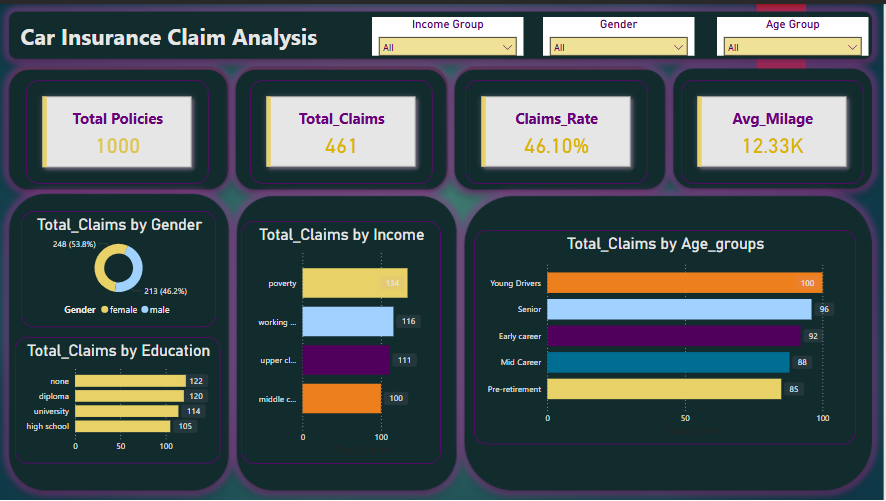

What the dashboard file says about the page in this screenshot:
{"tool":"powerbi","page":{"name":"Summary ","canvas":[1280,720],"ordinal":0},"visuals":[{"type":"cardVisual","fields":{"Data":["_Measure.Total_Policies"]},"box":[40.3,109.2,263.7,150],"z":0},{"type":"cardVisual","fields":{"Data":["_Measure.Total_Claims"]},"box":[364.5,109.2,263.7,149.5],"z":1000},{"type":"cardVisual","fields":{"Data":["_Measure.Claims_Rate"]},"box":[675.3,109.2,263.7,149.5],"z":2000},{"type":"cardVisual","fields":{"Data":["_Measure.Avg_Milage"]},"box":[987.7,109.2,263.7,149.5],"z":3000},{"type":"barChart","fields":{"Y":["_Measure.Total_Claims"],"Category":["Data - Car_Insurance_Claims.Education"]},"box":[25.2,482.1,297.3,183.1],"z":4000},{"type":"donutChart","fields":{"Y":["_Measure.Total_Claims"],"Category":["Data - Car_Insurance_Claims.Gender"]},"box":[33.6,299,282.2,168],"z":5000},{"type":"barChart","fields":{"Y":["_Measure.Total_Claims"],"Category":["Data - Car_Insurance_Claims.Age_groups"]},"box":[688.3,326.7,551.7,310],"z":6000},{"type":"barChart","fields":{"Y":["_Measure.Total_Claims"],"Category":["Data - Car_Insurance_Claims.Income"]},"box":[351.1,314.1,288.9,351.1],"z":7000},{"type":"textbox","box":[0,18.5,502.3,55.4],"z":8000},{"type":"slicer","title":"Age Group","fields":{"Values":["Data - Car_Insurance_Claims.Age_groups"]},"box":[1038.9,18.9,218.9,55.6],"z":9000},{"type":"slicer","title":"Gender","fields":{"Values":["Data - Car_Insurance_Claims.Gender"]},"box":[787.8,18.9,218.9,55.6],"z":10000},{"type":"slicer","title":"Income Group ","fields":{"Values":["Data - Car_Insurance_Claims.Income"]},"box":[540,18.9,218.9,55.6],"z":11000}]}

Visuals, with their boxes in screenshot pixels (x1, y1, x2, y2), scaled from the page's 1280x720 canvas onto the 886x501 screenshot:
cardVisual - _Measure.Total_Policies: Rect(28, 76, 210, 180)
cardVisual - _Measure.Total_Claims: Rect(252, 76, 435, 180)
cardVisual - _Measure.Claims_Rate: Rect(467, 76, 650, 180)
cardVisual - _Measure.Avg_Milage: Rect(684, 76, 866, 180)
barChart - _Measure.Total_Claims x Data - Car_Insurance_Claims.Education: Rect(17, 335, 223, 463)
donutChart - _Measure.Total_Claims x Data - Car_Insurance_Claims.Gender: Rect(23, 208, 219, 325)
barChart - _Measure.Total_Claims x Data - Car_Insurance_Claims.Age_groups: Rect(476, 227, 858, 443)
barChart - _Measure.Total_Claims x Data - Car_Insurance_Claims.Income: Rect(243, 219, 443, 463)
textbox: Rect(0, 13, 348, 51)
"Age Group" slicer: Rect(719, 13, 871, 52)
"Gender" slicer: Rect(545, 13, 697, 52)
"Income Group " slicer: Rect(374, 13, 525, 52)
